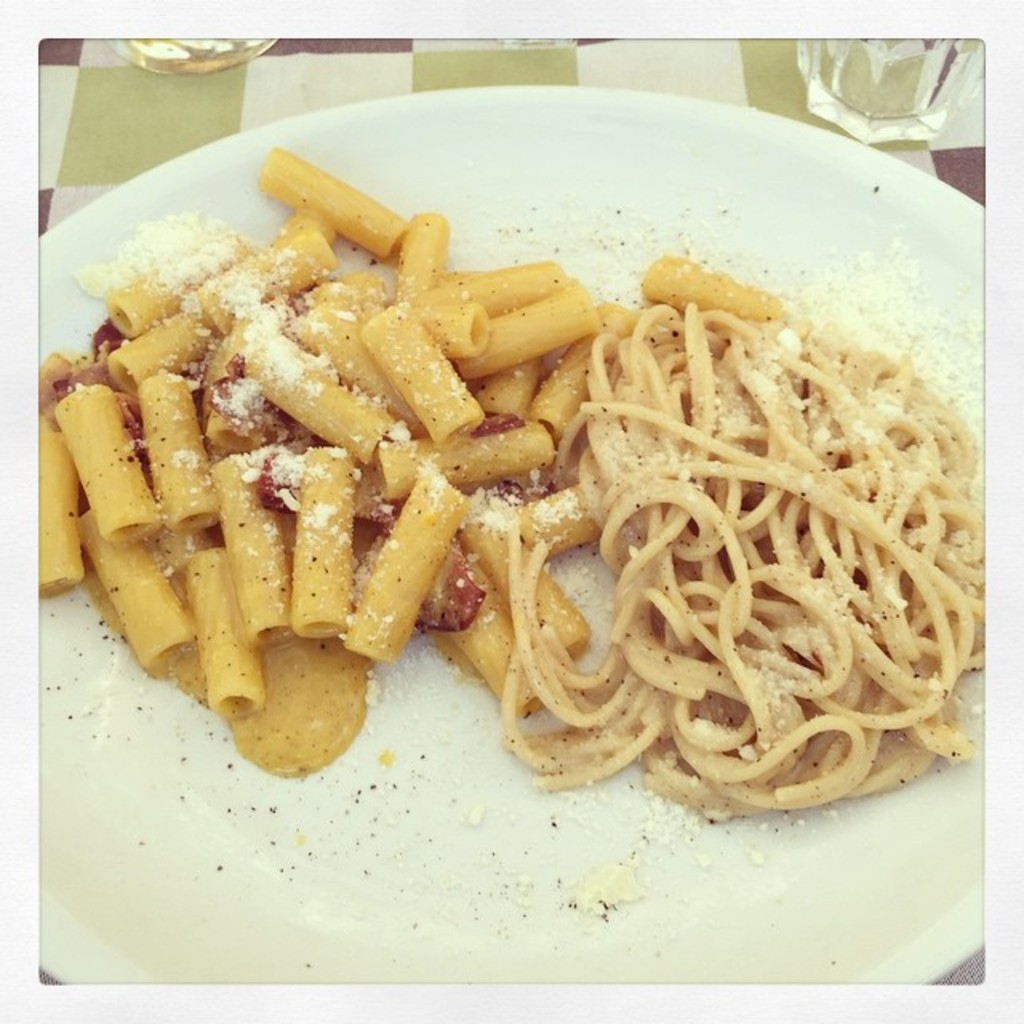pasta: (26, 142, 778, 722)
